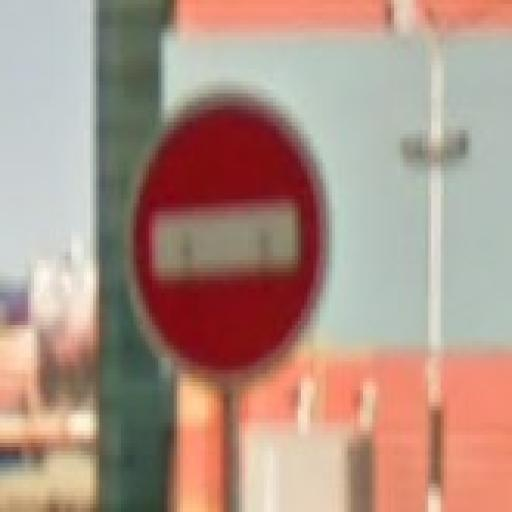traffic_sign: (125, 90, 327, 387)
